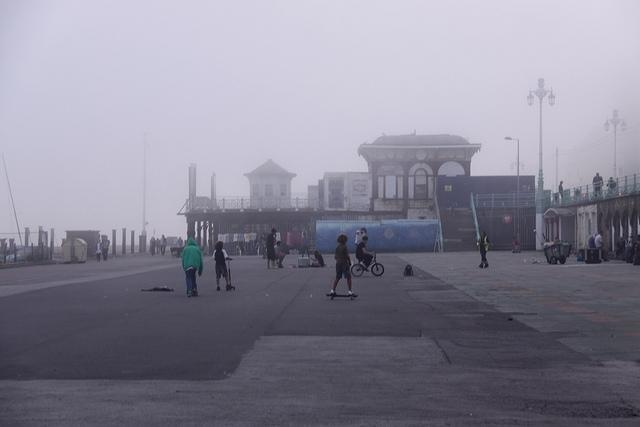bicycle: (351, 250, 384, 278)
